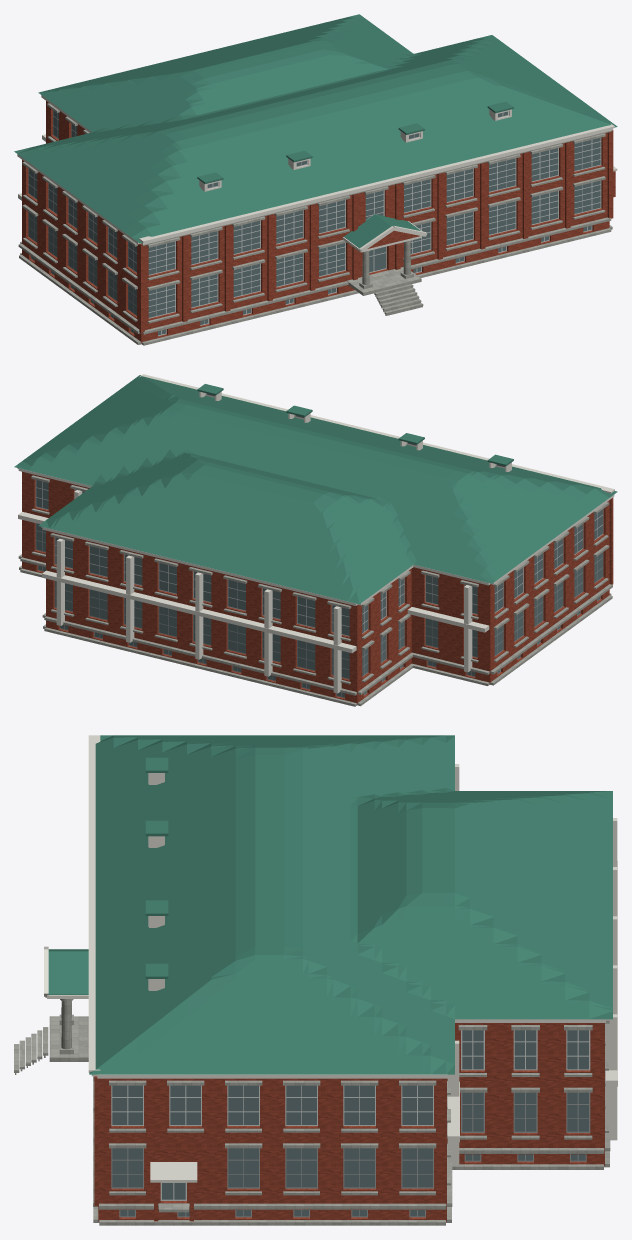
3 renders of one model, top to bottom at view 1: azimuth 30°, elevation 25°; view 2: azimuth 150°, elevation 25°; view 3: azimuth 270°, elevation 25°, orthographic. The views are drawn at different scales.
Visible parts, largest first — view 1: winsborough__roof, winsborough__brick, winsborough__glass, winsborough__stone, winsborough__frame, winsborough__trim, winsborough, winsborough__metal; view 2: winsborough__roof, winsborough__brick, winsborough__glass, winsborough__trim, winsborough__stone, winsborough__metal, winsborough__frame; view 3: winsborough__roof, winsborough__brick, winsborough__glass, winsborough__stone, winsborough__trim, winsborough__metal, winsborough__frame, winsborough.
Part boxes in pixels (box(x1,y1,x2,y2)): winsborough__roof: box(14, 14, 617, 248); winsborough__brick: box(22, 101, 615, 343); winsborough__glass: box(28, 110, 600, 335); winsborough__stone: box(18, 103, 612, 345); winsborough__frame: box(28, 110, 601, 335); winsborough__trim: box(17, 95, 617, 252); winsborough: box(374, 284, 423, 314); winsborough__metal: box(28, 212, 136, 333); winsborough__roof: box(14, 375, 617, 604); winsborough__brick: box(22, 471, 613, 704); winsborough__glass: box(36, 393, 602, 697); winsborough__trim: box(17, 374, 614, 693); winsborough__stone: box(18, 475, 612, 706); winsborough__metal: box(35, 523, 603, 698); winsborough__frame: box(35, 480, 603, 636); winsborough__roof: box(48, 735, 612, 1074); winsborough__brick: box(94, 1023, 604, 1221); winsborough__glass: box(112, 1030, 588, 1216); winsborough__stone: box(15, 999, 610, 1225); winsborough__trim: box(44, 735, 617, 1182); winsborough__metal: box(111, 1092, 590, 1217); winsborough__frame: box(111, 1030, 590, 1200); winsborough: box(14, 1027, 48, 1072).
Bounding box in the file's own units: 44.52 × 12.39 × 32.11.
15 materials, 10 textured.
